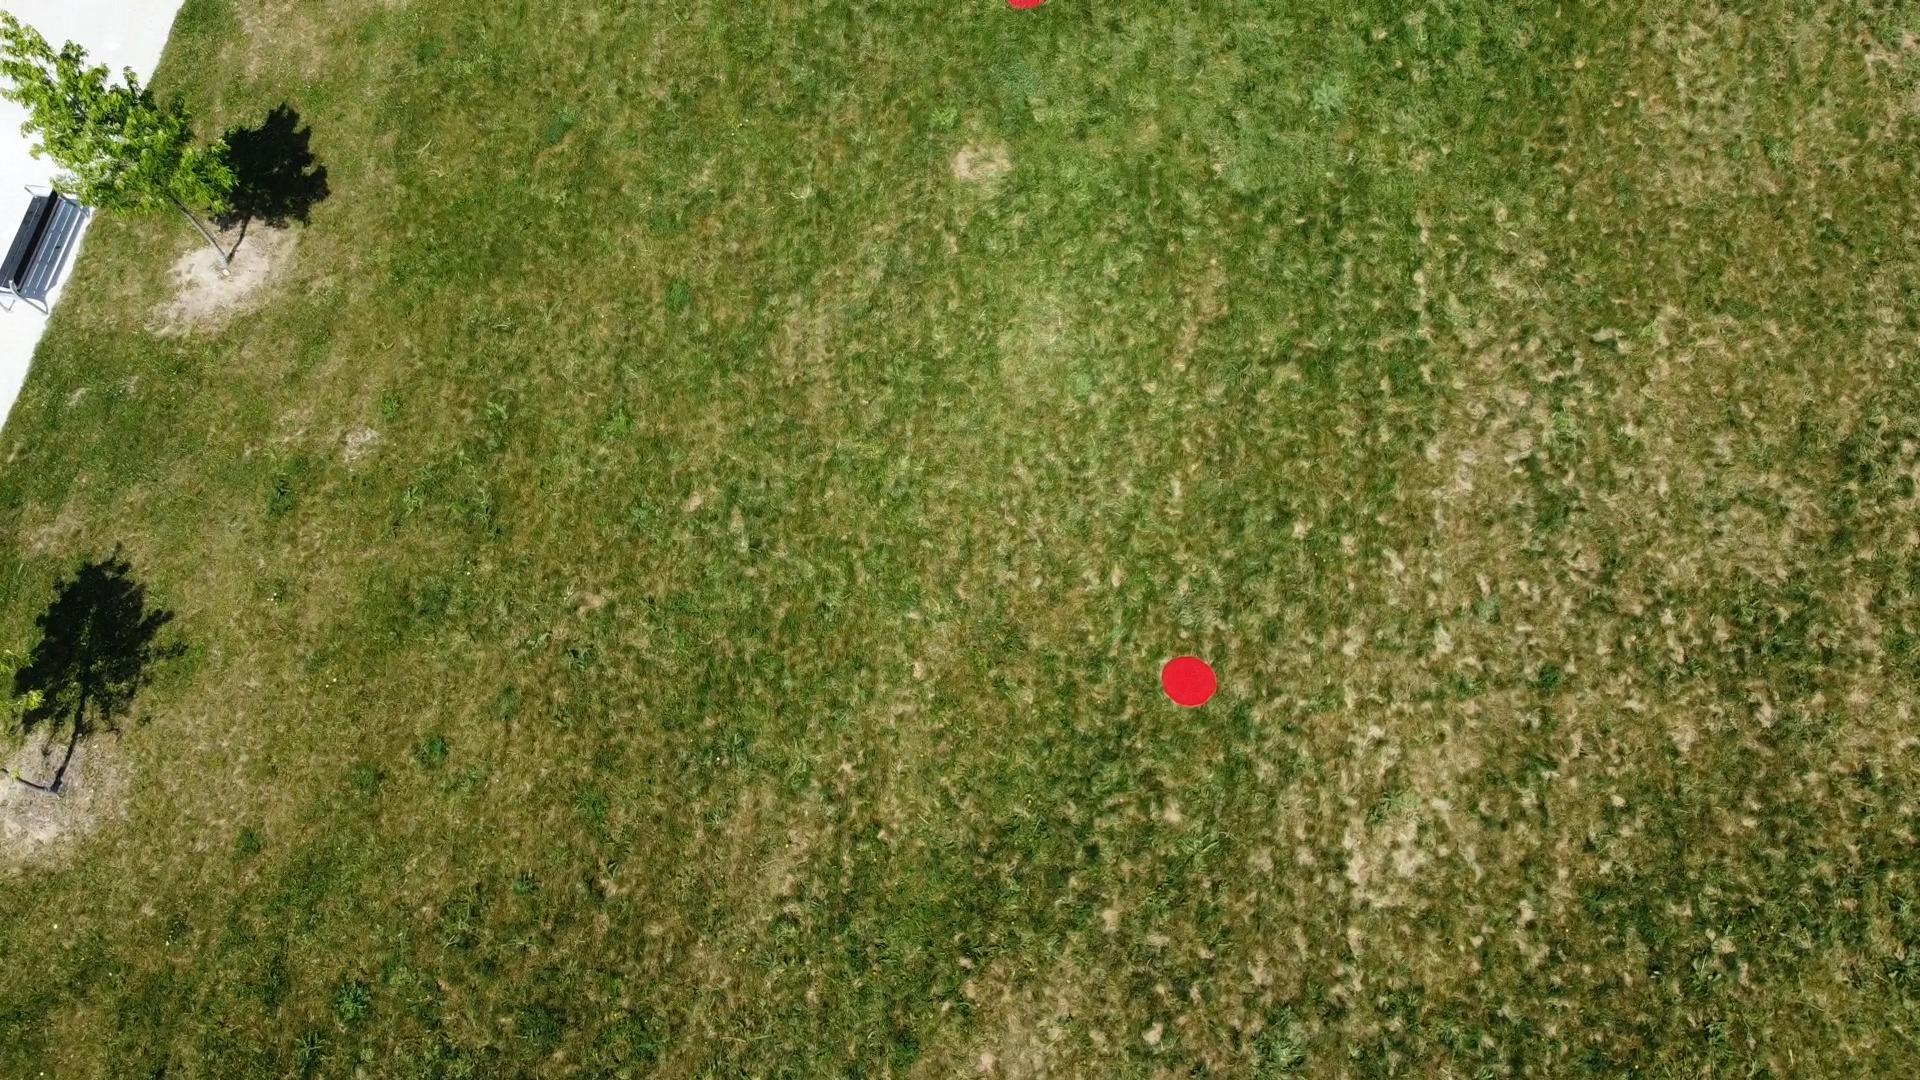Red: (1158, 653, 1221, 709)
